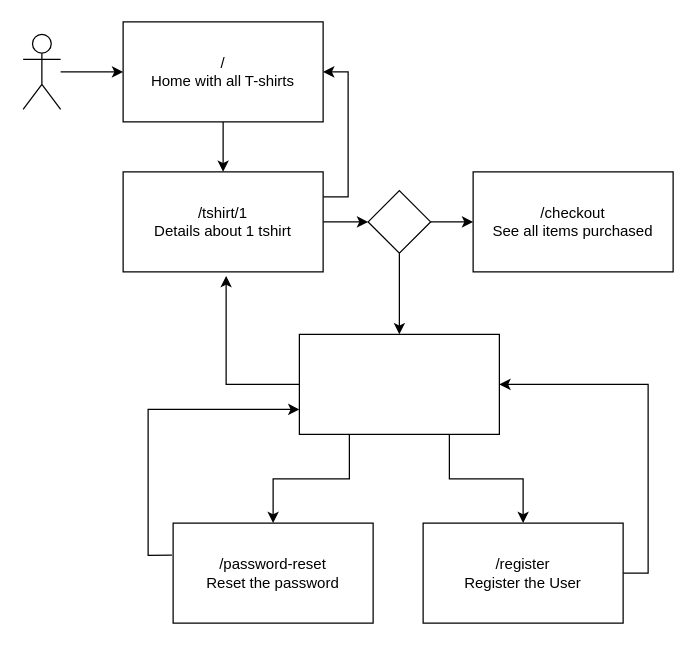
This 695x645 diagram has some shape labels left out. The shapes that lost their labels are listed below. From the top down, each one's box as (x1, y1, x2, y2) in pixels, then its label:
(22, 33, 61, 109): USER
(298, 333, 499, 434): /login Login the User
